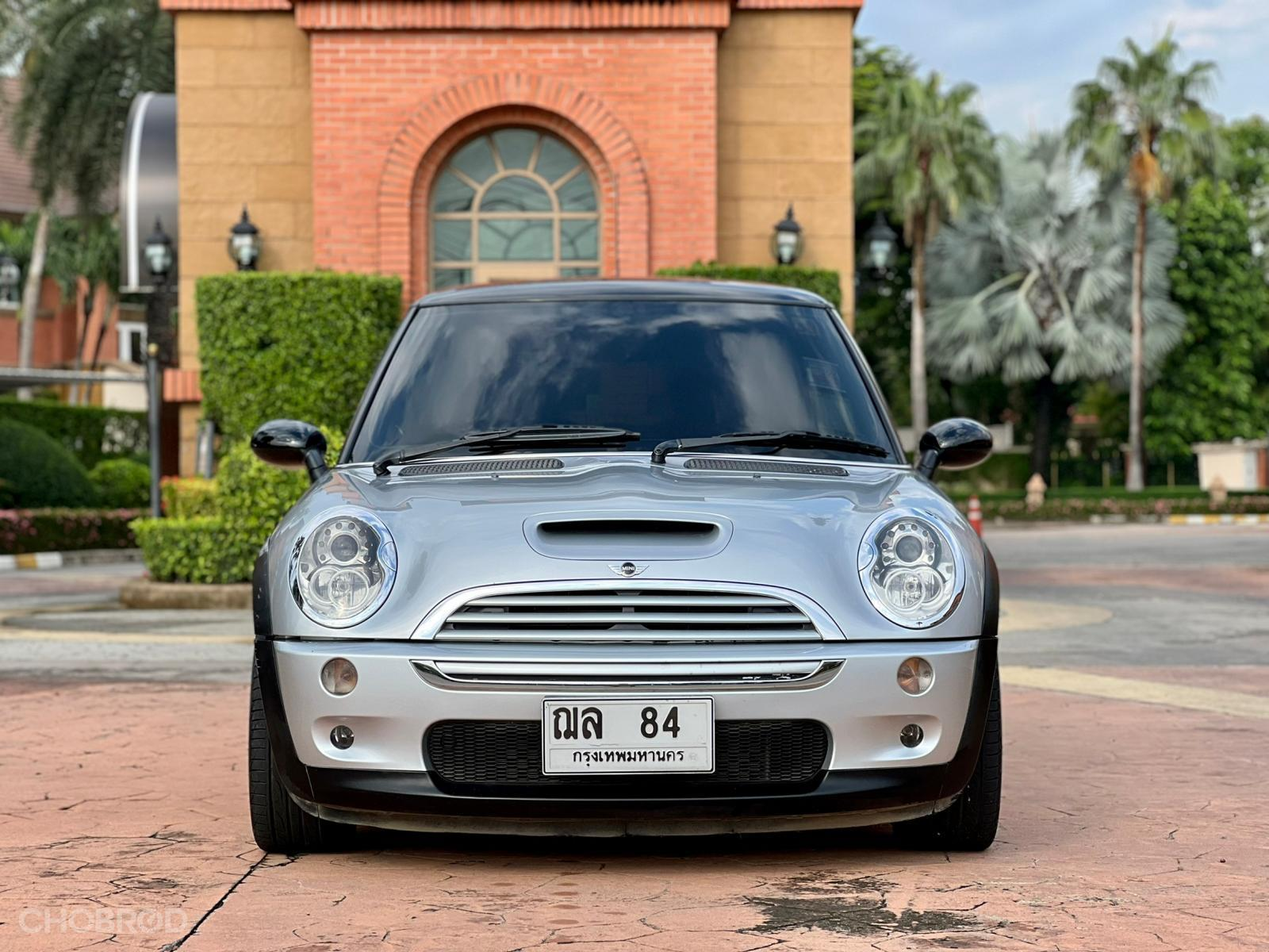license-plate: (537, 693, 718, 776)
